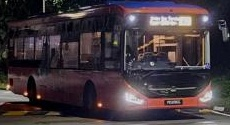bus: (178, 16, 191, 27)
